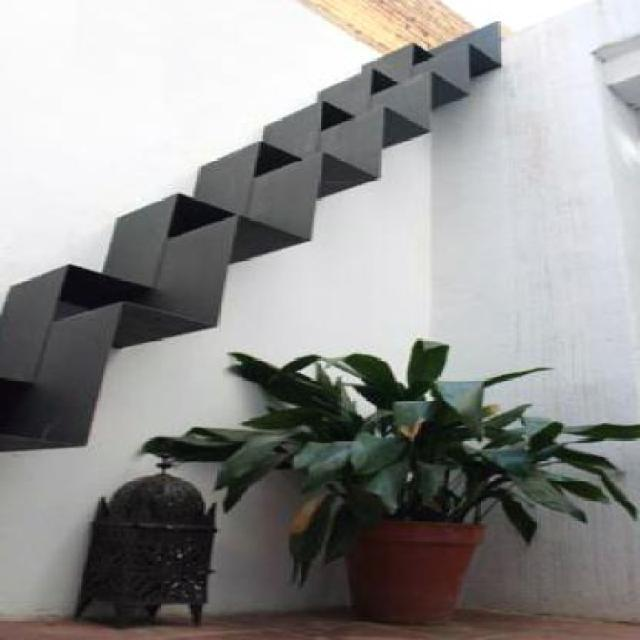stair: (2, 19, 528, 438)
